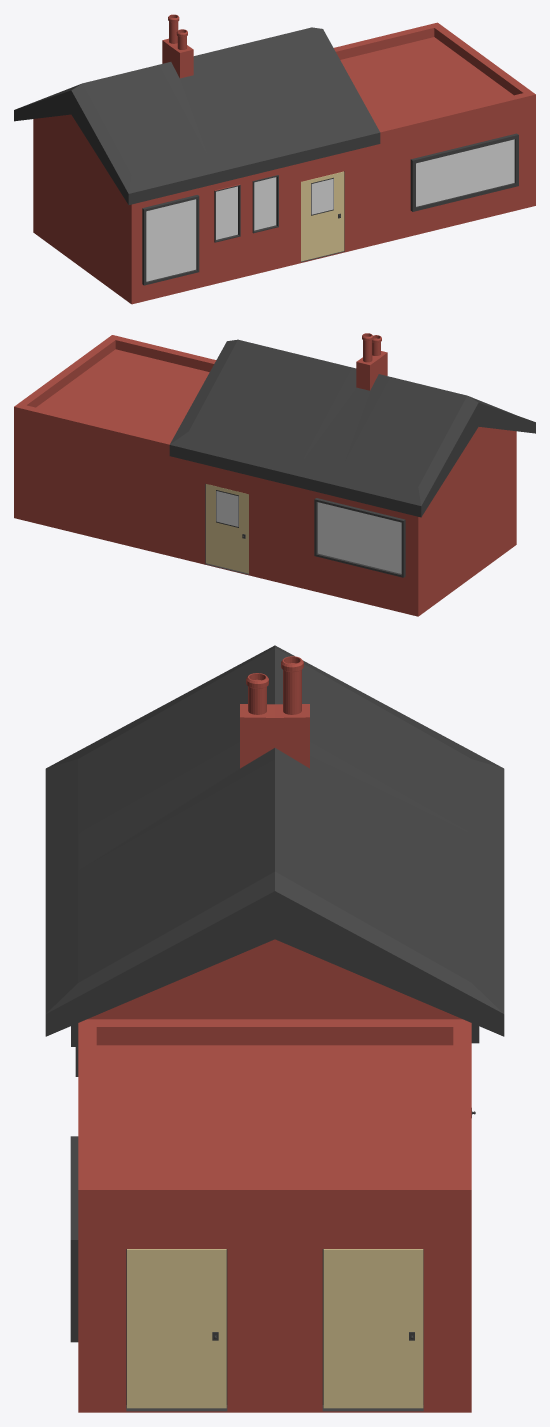
Rendered from Station Building.fbx.
3 views of the same model, one above another, from view 1: azimuth 30°, elevation 25°; view 2: azimuth 150°, elevation 25°; view 3: azimuth 270°, elevation 25° (orthographic). The views are drawn at different scales.
Visible parts, largest first — view 1: Cube, Cube.001; view 2: Cube, Cube.002; view 3: Cube, Cube.004, Cube.003.
Part boxes in pixels (bbox=[...]): Cube: bbox=[14, 14, 535, 304]; Cube.001: bbox=[301, 171, 344, 261]; Cube: bbox=[14, 333, 535, 616]; Cube.002: bbox=[206, 484, 248, 573]; Cube: bbox=[45, 645, 504, 1412]; Cube.004: bbox=[323, 1249, 423, 1408]; Cube.003: bbox=[127, 1249, 226, 1408].
Size of the model in its own units: 783 by 405 by 373.
